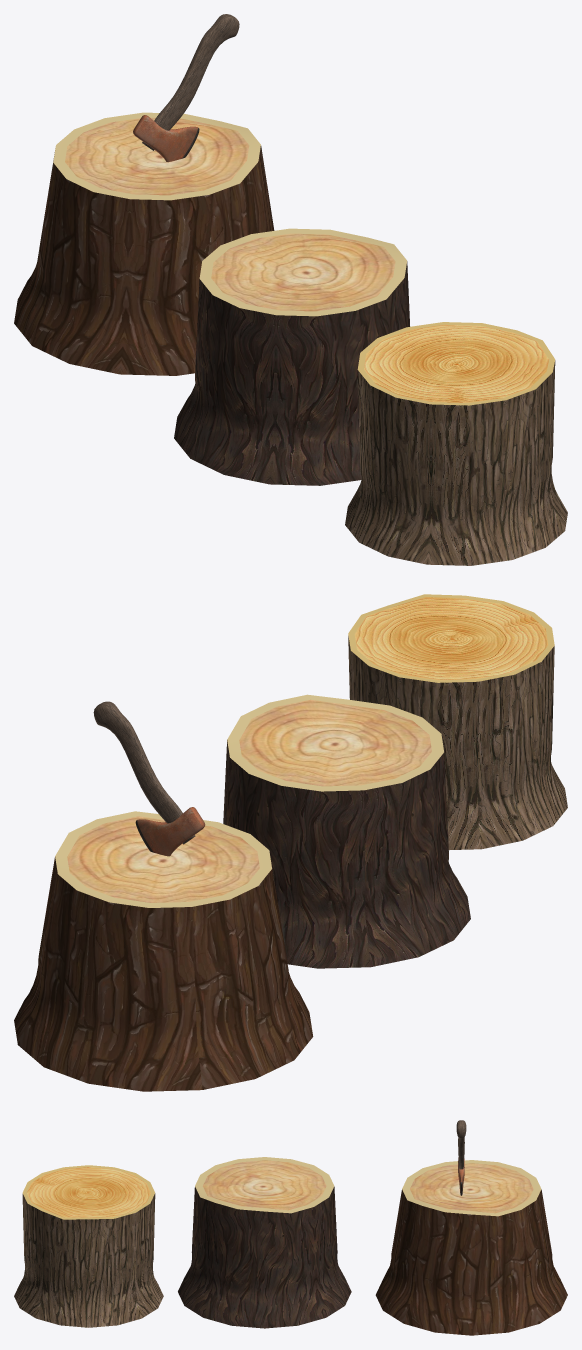
File: Troncos .fbx
3 renders of one model, top to bottom at view 1: azimuth 30°, elevation 25°; view 2: azimuth 150°, elevation 25°; view 3: azimuth 270°, elevation 25°, orthographic. The views are drawn at different scales.
Visible parts, largest first — view 1: Tronco cortado 3, Tronco cortado 2, Tronco cortado 1, Machado 2; view 2: Tronco cortado 3, Tronco cortado 1, Tronco cortado 2, Machado 2; view 3: Tronco cortado 3, Tronco cortado 1, Tronco cortado 2, Machado 2.
Part boxes in pixels (bbox=[...]): Tronco cortado 3: bbox=[14, 112, 274, 375]; Tronco cortado 2: bbox=[345, 322, 567, 565]; Tronco cortado 1: bbox=[174, 228, 409, 485]; Machado 2: bbox=[133, 14, 239, 162]; Tronco cortado 3: bbox=[14, 811, 313, 1091]; Tronco cortado 1: bbox=[223, 694, 470, 968]; Tronco cortado 2: bbox=[348, 594, 567, 850]; Machado 2: bbox=[93, 701, 205, 856]; Tronco cortado 3: bbox=[375, 1160, 567, 1335]; Tronco cortado 1: bbox=[178, 1157, 351, 1328]; Tronco cortado 2: bbox=[14, 1165, 163, 1327]; Machado 2: bbox=[456, 1120, 466, 1195].
Size of the model in its own units: 67.45 by 75.01 by 194.
